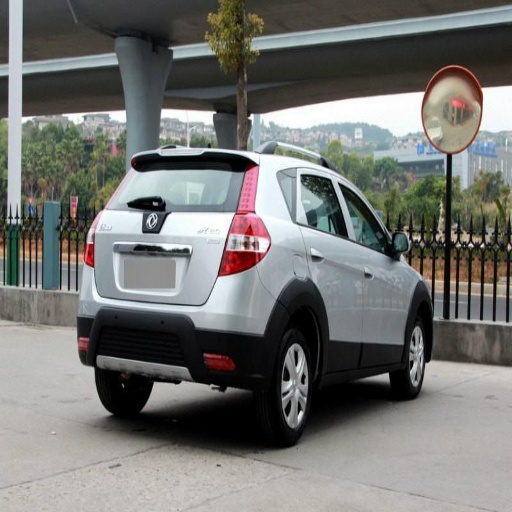back_bumper: (78, 264, 277, 388)
back_right_door: (297, 166, 364, 367)
